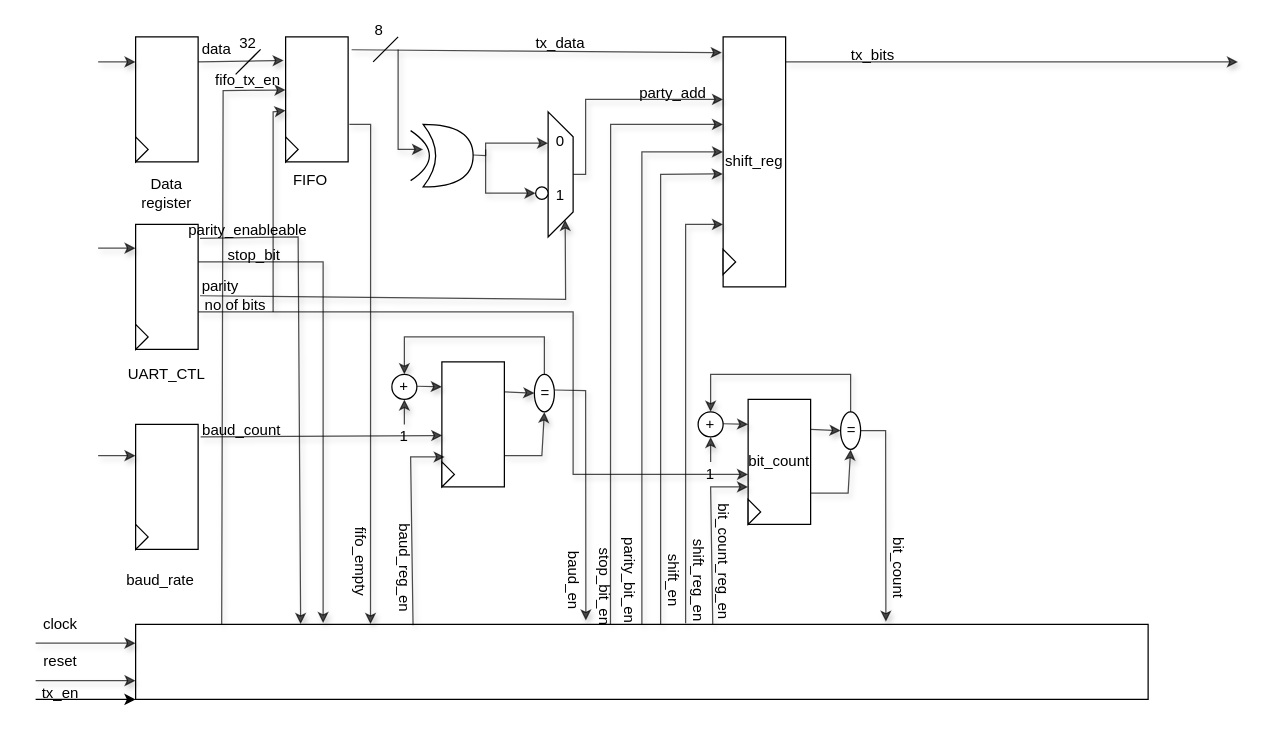
Image size: 1278x733. Some labels were removed from this diagram. Each missing label, with the centre of its shape:
"baud_reg" goes at (x=472, y=424).
"controller" goes at (x=641, y=661).
